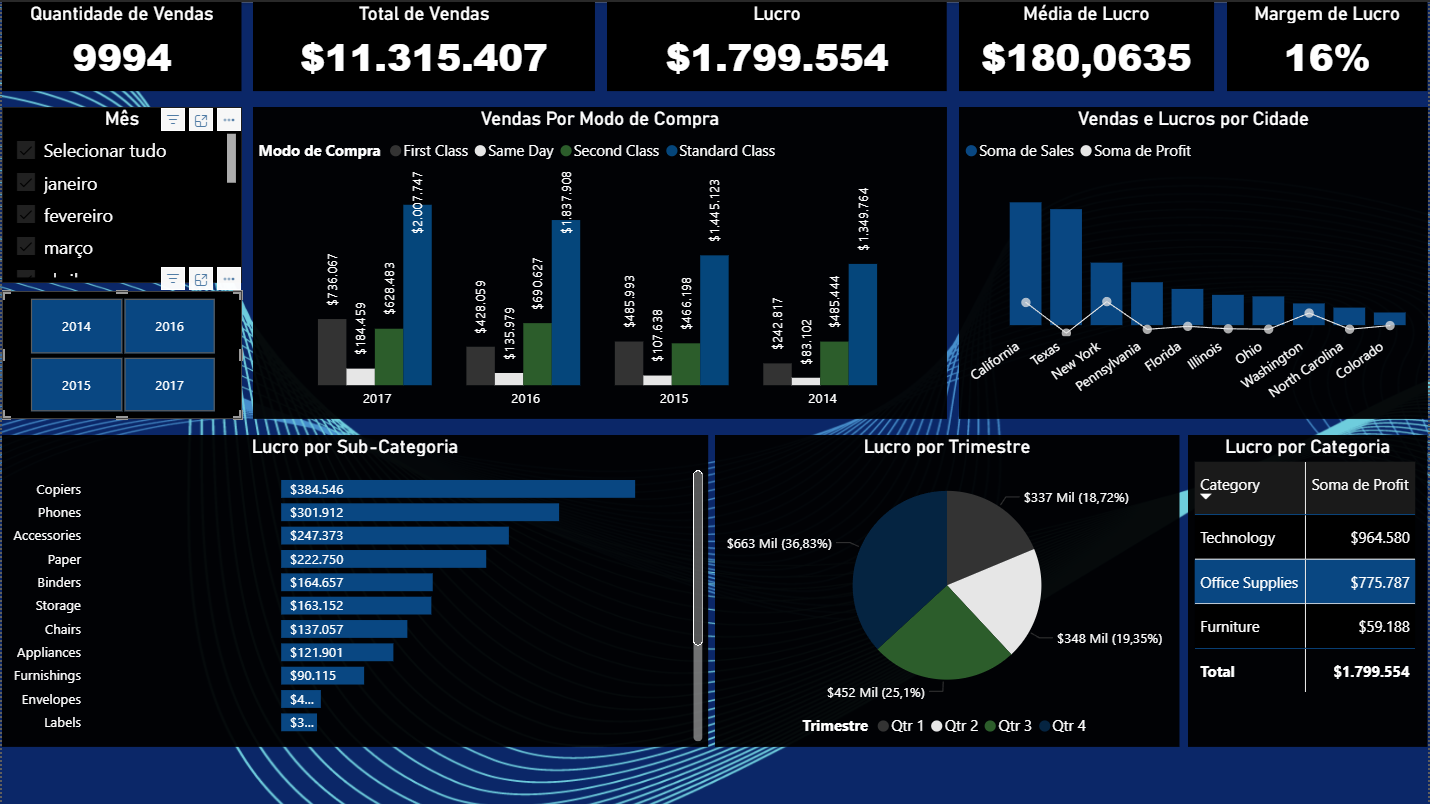

What the dashboard file says about the page in this screenshot:
{"tool":"powerbi","page":{"name":"Página 1","canvas":[1280,720],"ordinal":0},"visuals":[{"type":"clusteredColumnChart","title":"Vendas Por  Modo de Compra","fields":{"Category":["DIM-Ordem.Years Date"],"Y":["Sum(DIM-Vendas.Sales)"],"Series":["DIM-Ordem.Ship Mode"]},"box":[225.3,94.3,623,280.1],"z":0},{"type":"card","title":"Total de Vendas","fields":{"Values":["DIM-Vendas.TOTAL_VENDAS"]},"box":[225.2,0,307.2,80.2],"z":1000},{"type":"card","title":"Lucro","fields":{"Values":["DIM-Clientes.SOMA LUCRO"]},"box":[543.2,0,305.4,80.2],"z":2000},{"type":"card","title":"Margem de Lucro","fields":{"Values":["DIM-Clientes.Margem de lucro"]},"box":[1100.1,0,179.9,79.8],"z":3000},{"type":"lineClusteredColumnComboChart","title":"Vendas e Lucros por Cidade","fields":{"Y":["Sum(DIM-Vendas.Sales)"],"Y2":["Sum(DIM-Vendas.Profit)"],"Category":["DIM-Clientes.State"]},"box":[859.2,94.3,421,280.1],"z":4000},{"type":"card","title":"Média de Lucro","fields":{"Values":["DIM-Vendas.Média de LUCRO"]},"box":[859.5,0,228.8,80.2],"z":5000},{"type":"card","title":"Quantidade de Vendas","fields":{"Values":["CountNonNull(DIM-Ordem.Ship Date)"]},"box":[0,0,215.3,80.2],"z":6000},{"type":"slicer","title":"FILTRO","fields":{"Values":["DIM-Ordem.Order Date.Variation.Hierarquia de datas.Mês"]},"box":[0,94.3,215.5,158],"z":7000},{"type":"slicer","title":"ANO","fields":{"Values":["DIM-Ordem.Years Date"]},"box":[0,259.5,215.3,115.3],"z":8000},{"type":"clusteredBarChart","title":"Lucro por Sub-Categoria","fields":{"Y":["Sum(DIM-Vendas.Profit)"],"Category":["DIM-Produtos.Sub-Category"]},"box":[0,388.7,633.8,280.1],"z":9000},{"type":"pieChart","title":"Lucro por Trimestre","fields":{"Y":["Sum(DIM-Vendas.Profit)"],"Category":["DIM-Ordem.Order Date.Variation.Hierarquia de datas.Trimestre"]},"box":[640.1,388.7,416.6,280.1],"z":10000},{"type":"tableEx","title":"Lucro por Categoria","fields":{"Values":["DIM-Produtos.Category","Sum(DIM-Vendas.Profit)"]},"box":[1065,389,215,280],"z":11000}]}

Visuals, with their boxes in screenshot pixels (x1, y1, x2, y2), scaled from the page's 1280x720 canvas onto the 1430x804 screenshot:
"Vendas Por  Modo de Compra" clusteredColumnChart: x1=252 y1=105 x2=948 y2=418
"Total de Vendas" card: x1=252 y1=0 x2=595 y2=90
"Lucro" card: x1=607 y1=0 x2=948 y2=90
"Margem de Lucro" card: x1=1229 y1=0 x2=1429 y2=89
"Vendas e Lucros por Cidade" lineClusteredColumnComboChart: x1=960 y1=105 x2=1429 y2=418
"Média de Lucro" card: x1=960 y1=0 x2=1216 y2=90
"Quantidade de Vendas" card: x1=0 y1=0 x2=241 y2=90
"FILTRO" slicer: x1=0 y1=105 x2=241 y2=282
"ANO" slicer: x1=0 y1=290 x2=241 y2=419
"Lucro por Sub-Categoria" clusteredBarChart: x1=0 y1=434 x2=708 y2=747
"Lucro por Trimestre" pieChart: x1=715 y1=434 x2=1181 y2=747
"Lucro por Categoria" tableEx: x1=1190 y1=434 x2=1429 y2=747
